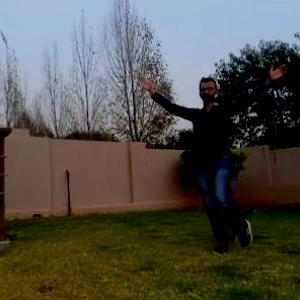takeoff: (168, 79, 291, 249)
